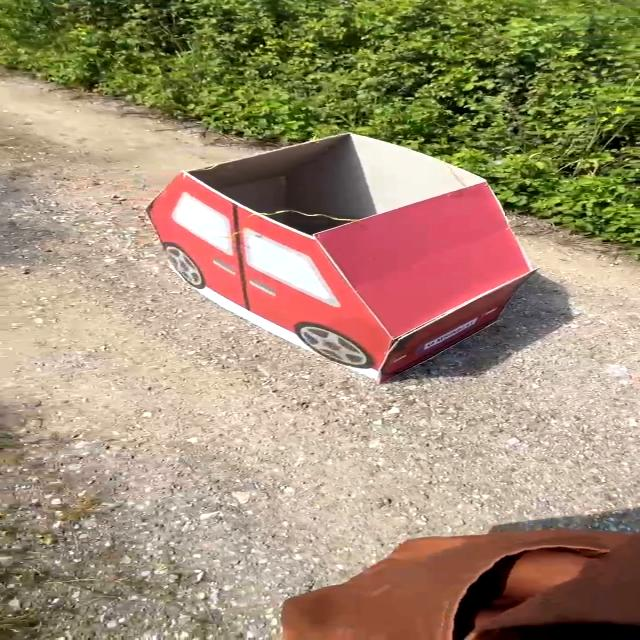red_car: (95, 110, 579, 405)
